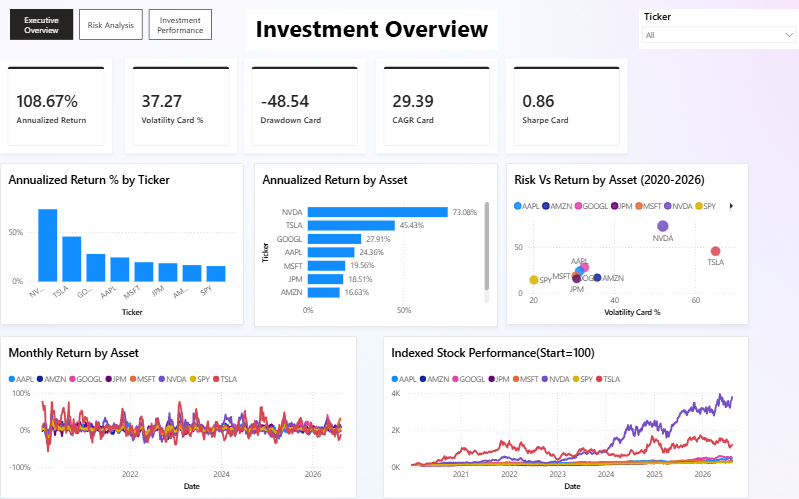

The page's visual inventory and layout, read from the dashboard file:
{"tool":"powerbi","page":{"name":"Executive Overview","canvas":[1280,800],"ordinal":0},"visuals":[{"type":"slicer","fields":{"Values":["stock_market_master.Ticker"]},"box":[1023,16.8,257,63.8],"z":0},{"type":"cardVisual","fields":{"Data":["stock_market_master.Annualized Return %"]},"box":[0,95.7,179.7,151.2],"z":1000},{"type":"cardVisual","fields":{"Data":["stock_performance_summary.Sharpe Card"]},"box":[809.7,95.7,194.9,151.2],"z":2000},{"type":"cardVisual","fields":{"Data":["stock_performance_summary.Drawdown Card"]},"box":[389.7,95.7,194.9,151.2],"z":3000},{"type":"cardVisual","fields":{"Data":["stock_performance_summary.Volatility Card"]},"box":[199.9,95.7,179.7,151.2],"z":4000},{"type":"clusteredColumnChart","fields":{"Category":["stock_market_master.Ticker"],"Y":["stock_market_master.Annualized Return %"]},"box":[0,262,389.7,258.7],"z":5000},{"type":"cardVisual","fields":{"Data":["stock_performance_summary.CAGR Card"]},"box":[601.4,95.7,194.9,151.2],"z":6000},{"type":"scatterChart","title":"Risk Vs Return by Asset (2020-2026)","fields":{"Y":["stock_performance_summary.CAGR Card"],"Size":["stock_performance_summary.Sharpe Card"],"X":["stock_performance_summary.Volatility Card"],"Series":["stock_performance_summary.Ticker"]},"box":[809.7,262,388,258.7],"z":7000},{"type":"lineChart","title":"Indexed Stock Performance(Start=100)","fields":{"Category":["stock_market_master.Date"],"Y":["stock_market_master.Indexed Performance"],"Series":["stock_market_master.Ticker"]},"box":[613.1,539.2,584.6,260.4],"z":8000},{"type":"lineChart","title":"Monthly Return by Asset","fields":{"Category":["stock_market_master.Date"],"Y":["stock_market_master.Monthly Return%"],"Series":["stock_market_master.Ticker"]},"box":[0,539.2,571.1,260.4],"z":9000},{"type":"clusteredBarChart","title":"Annualized Return by Asset","fields":{"Category":["stock_market_master.Ticker"],"Y":["stock_market_master.Annualized Return %"]},"box":[406.5,262,389.7,262],"z":10000},{"type":"textbox","box":[393.1,16.8,381.3,65.5],"z":11000},{"type":"pageNavigator","box":[16,16,324.8,49.6],"z":11001}]}

Visuals, with their boxes in screenshot pixels (x1, y1, x2, y2), scaled from the page's 1280x800 canvas onto the 799x499 screenshot:
slicer - stock_market_master.Ticker: 639/10/798/50
cardVisual - stock_market_master.Annualized Return %: 0/60/112/154
cardVisual - stock_performance_summary.Sharpe Card: 505/60/627/154
cardVisual - stock_performance_summary.Drawdown Card: 243/60/365/154
cardVisual - stock_performance_summary.Volatility Card: 125/60/237/154
clusteredColumnChart - stock_market_master.Ticker x stock_market_master.Annualized Return %: 0/163/243/325
cardVisual - stock_performance_summary.CAGR Card: 375/60/497/154
"Risk Vs Return by Asset (2020-2026)" scatterChart: 505/163/748/325
"Indexed Stock Performance(Start=100)" lineChart: 383/336/748/498
"Monthly Return by Asset" lineChart: 0/336/356/498
"Annualized Return by Asset" clusteredBarChart: 254/163/497/327
textbox: 245/10/483/51
pageNavigator: 10/10/213/41
